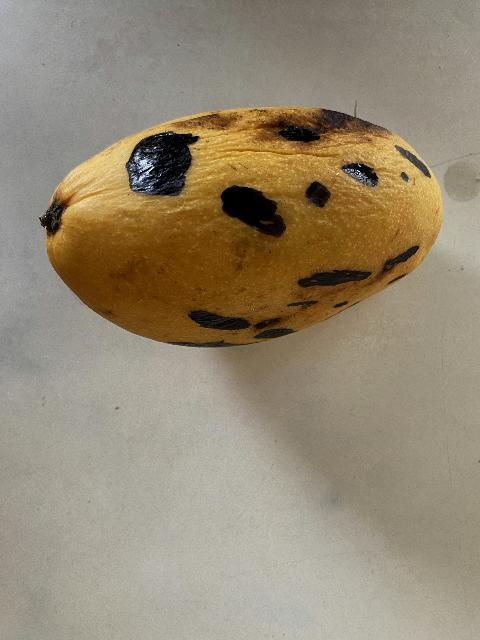Mango Overripe: (28, 93, 455, 377)
